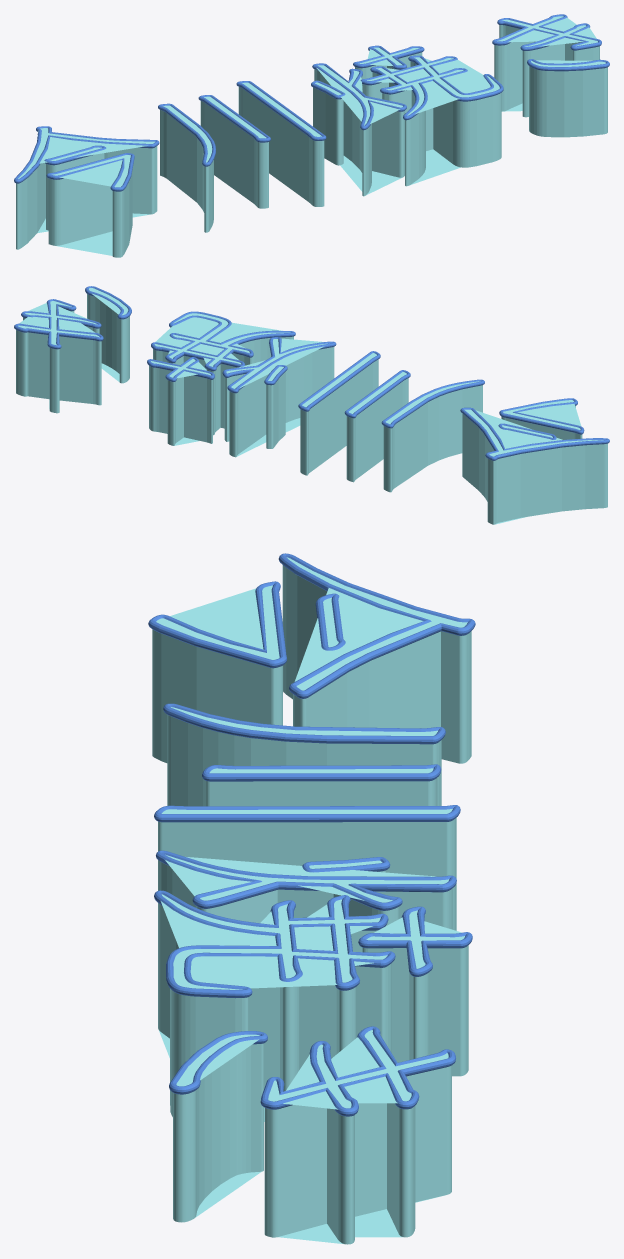
File: imagawayaki_test_klee.fbx
3 renders of one model, top to bottom at view 1: azimuth 30°, elevation 25°; view 2: azimuth 150°, elevation 25°; view 3: azimuth 270°, elevation 25°, orthographic. The views are drawn at different scales.
Parts seen in each view (by area): view 1: Text, Text.001; view 2: Text, Text.001; view 3: Text, Text.001.
Part boxes in pixels (bbox=[...]): Text: bbox=[16, 16, 607, 257]; Text.001: bbox=[14, 14, 609, 191]; Text: bbox=[16, 288, 607, 524]; Text.001: bbox=[14, 286, 609, 460]; Text: bbox=[152, 557, 471, 1244]; Text.001: bbox=[148, 553, 475, 1116].
Bounding box in the file's own units: 9.74 × 1.1 × 2.41.
